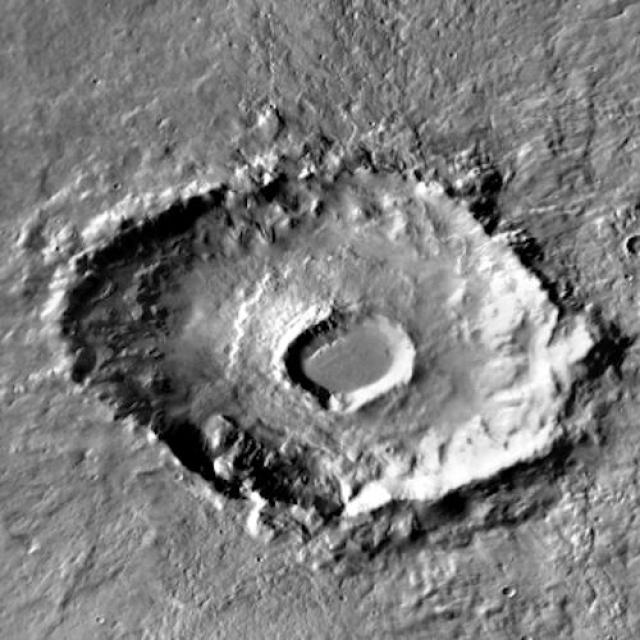crater: (43, 133, 640, 569), (0, 211, 164, 493), (0, 0, 219, 164), (0, 0, 169, 127), (0, 288, 97, 455), (0, 0, 110, 95), (495, 0, 622, 60), (97, 0, 211, 50), (0, 0, 78, 70)
